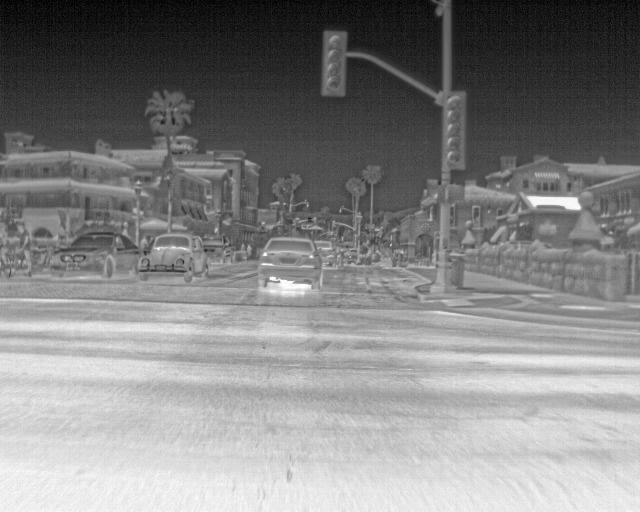bicycle: (47, 230, 144, 277), (255, 236, 326, 290), (137, 232, 206, 283), (202, 234, 234, 265), (310, 237, 336, 268)
empty: (15, 222, 34, 277)
